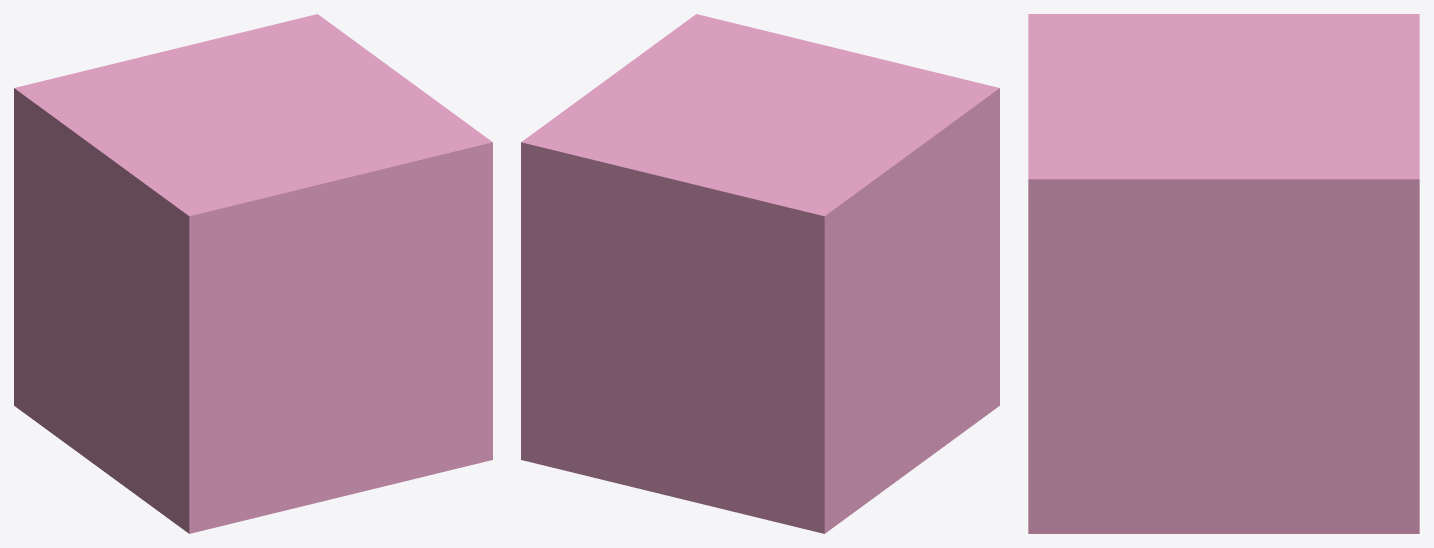
The model's file is 118_orchid_petal_block.glb.
3 renders of one model, left to right at view 1: azimuth 30°, elevation 25°; view 2: azimuth 150°, elevation 25°; view 3: azimuth 270°, elevation 25°, orthographic. The views are drawn at different scales.
Parts seen in each view (by area): view 1: Core; view 2: Core; view 3: Core.
Part boxes in pixels (x1,y1,x2,y2): Core: [14, 14, 492, 533]; Core: [521, 14, 999, 533]; Core: [1028, 14, 1419, 533].
Bounding box in the file's own units: 1 × 1 × 1.
